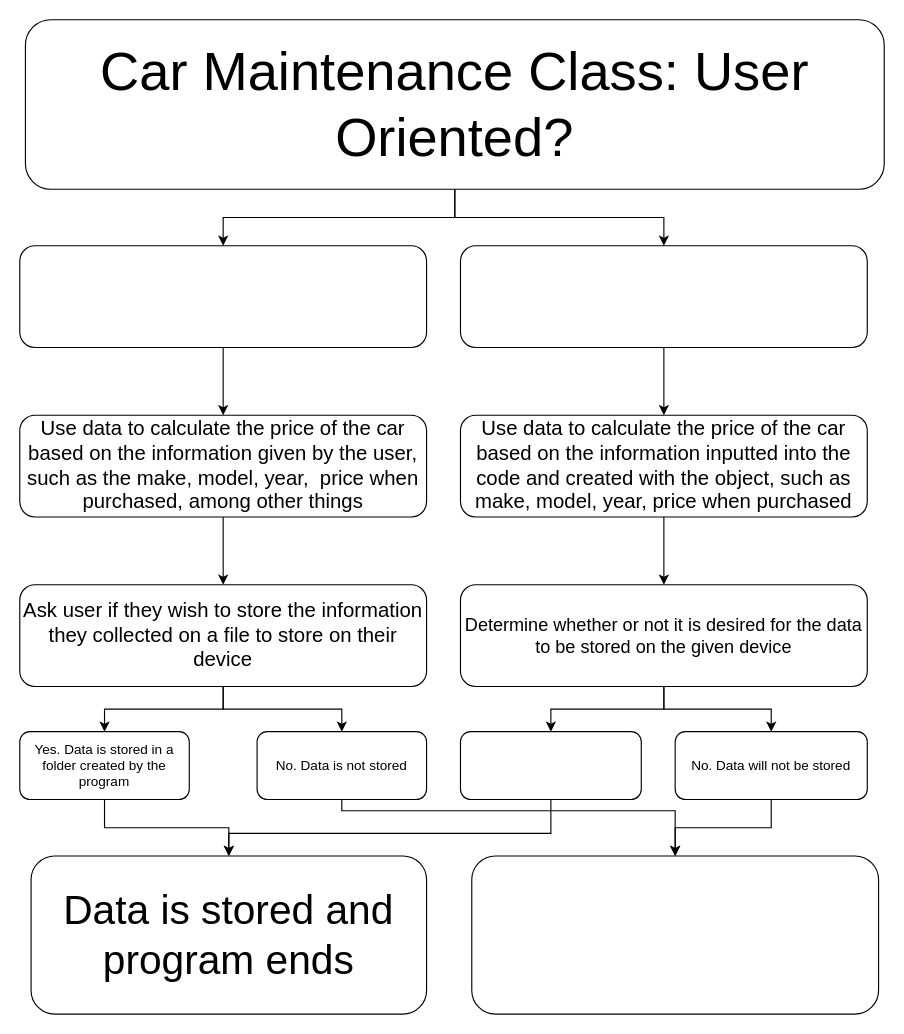
The diagram is 904 pixels wide and 1034 high, and some of its shapes have lost their labels. Each missing label, with the centre of its shape:
No. Create values in the program and use the data given by the program: point 663,296
Program simply ends: point 675,934
Yes. Create dialogue and questions to keep track of data received by user: point 223,296
Yes. Data will be stored on the given device: point 550,765
